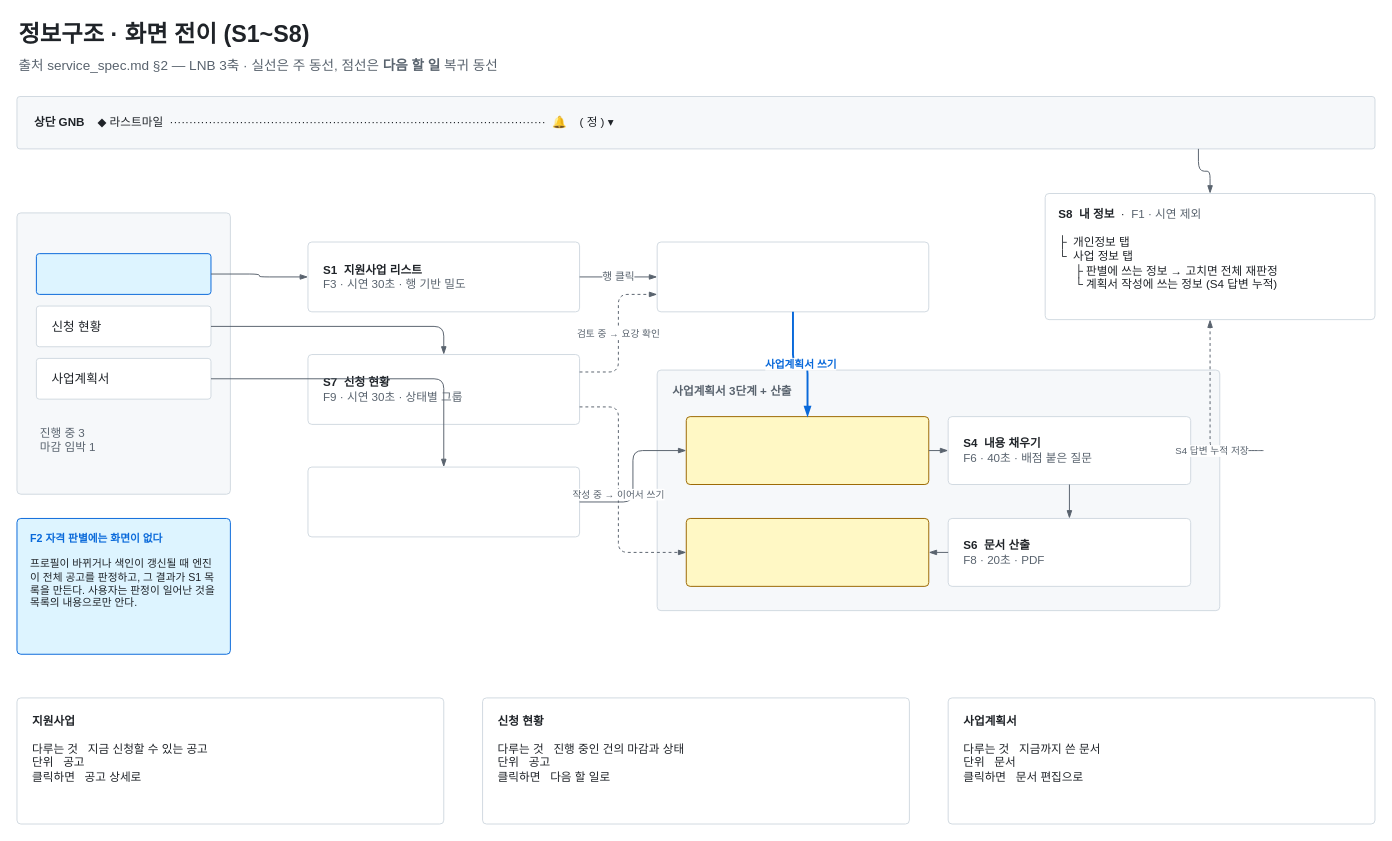
Image size: 1392x841. Some labels were removed from this diagram. Here are the shapes that lost their labels. From the top down, the box of each, then its label:
(35, 253, 211, 294): 지원사업
(656, 241, 929, 312): S2 공고 상세 F4 · 시연 50초 · 요강 정리본
(16, 212, 230, 494): 좌측 LNB
(685, 416, 929, 485): S3 공고 분석 ★ F5 · 60초 · 결론 3줄
(307, 466, 580, 537): 계획서 목록 보조 요소 · 진행 중 문서 선택
(685, 517, 929, 586): S5 초안 작성 ★ F7 · 70초 · 스트리밍
